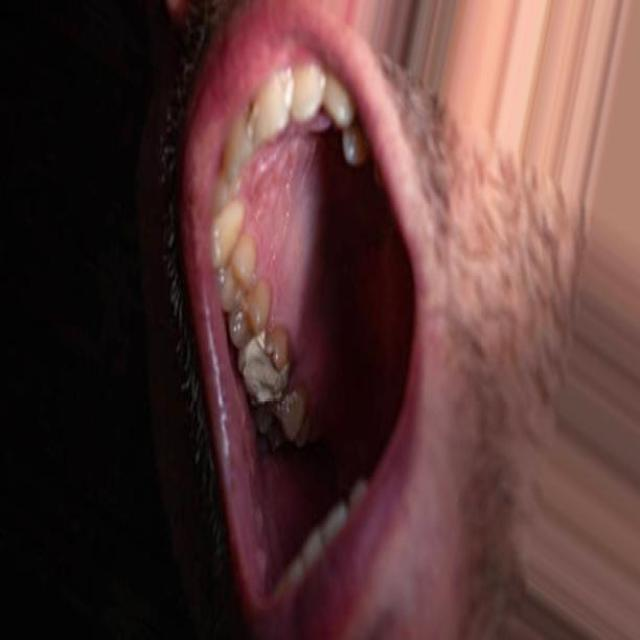caries: (243, 344, 286, 405)
